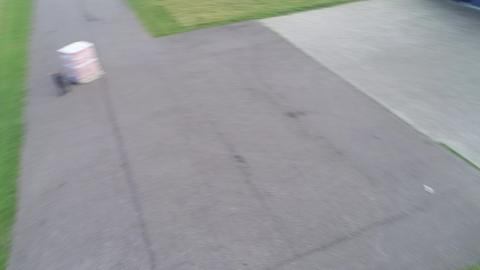RockwoolPallet: (60, 41, 101, 82)
